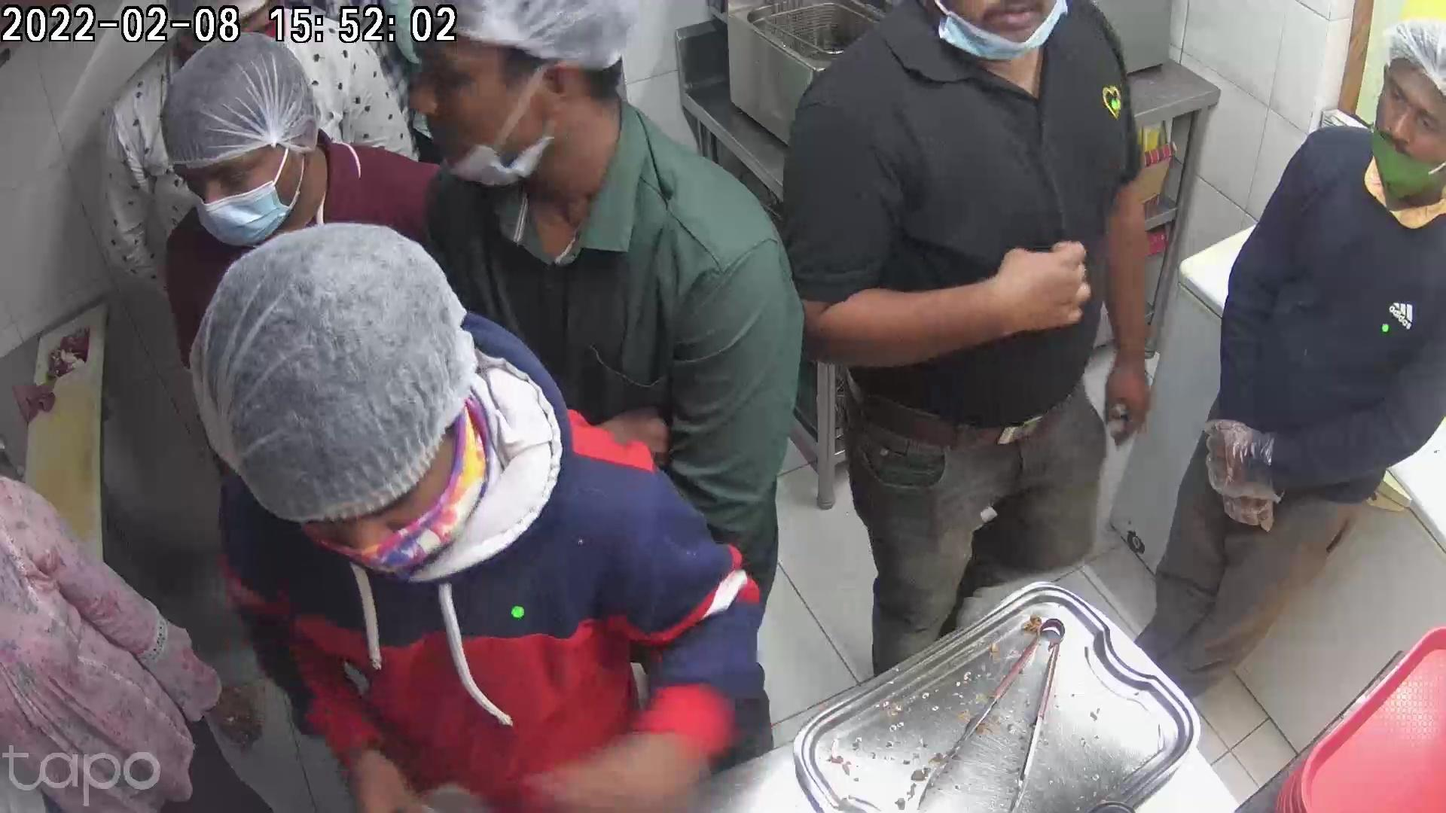no_gloves: (965, 241, 1084, 342)
